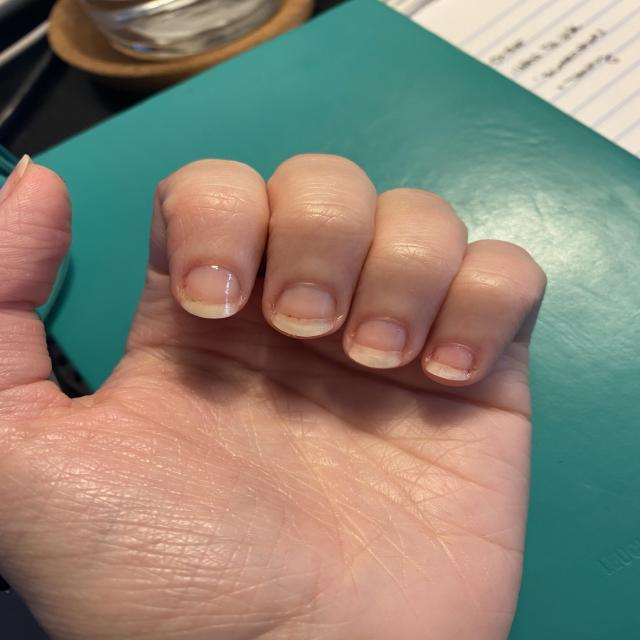Fingernail: (274, 285, 337, 337), (183, 266, 240, 318), (350, 319, 405, 367), (426, 346, 473, 380)
